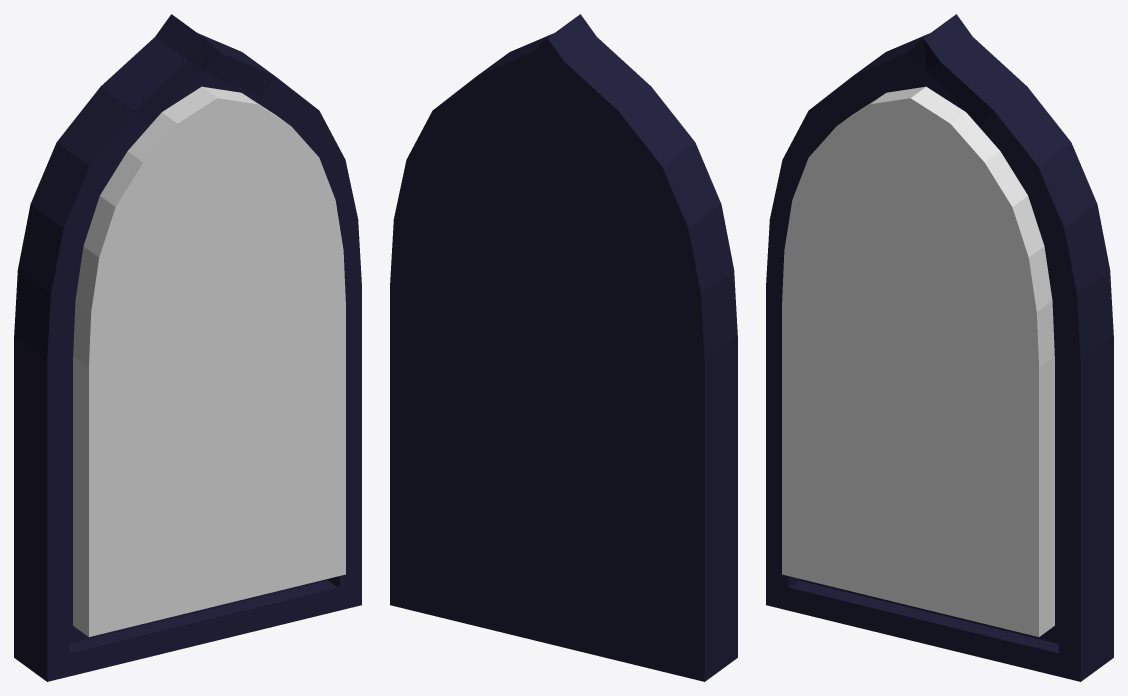
The model's file is Castle_Window.fbx.
The picture shows the model from 3 angles, left to right: view 1: azimuth 30°, elevation 25°; view 2: azimuth 150°, elevation 25°; view 3: azimuth 330°, elevation 25°; orthographic projection.
Parts seen in each view (by area): view 1: Plane.006, Plane.005; view 2: Plane.005; view 3: Plane.006, Plane.005.
Boxes of the visible parts, x1,y1,x2,y2 form: Plane.006: [73, 86, 345, 636]; Plane.005: [14, 14, 361, 681]; Plane.005: [390, 14, 737, 681]; Plane.006: [782, 86, 1054, 636]; Plane.005: [766, 14, 1113, 681].
Bounding box in the file's own units: 245 × 450 × 61.97.
